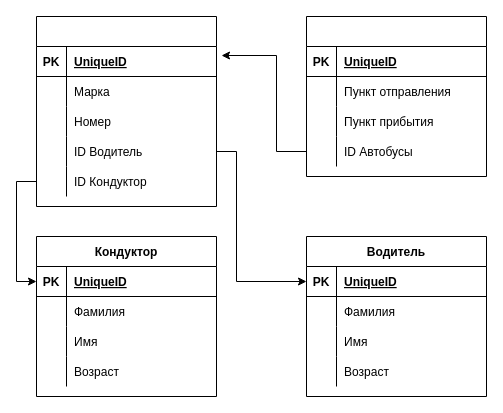
Some shapes in this 503 by 413 pixel diagram are drawn without their labels. The shapes that lost their labels are listed below. From the top down, each one's box as (x1, y1, x2, y2) in pixels, then its label:
(36, 16, 216, 206): Автобусы
(306, 16, 486, 176): Маршрут
